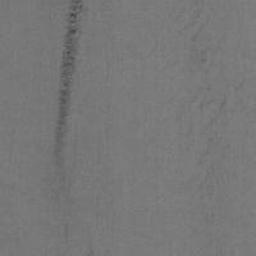Inclusion: (55, 0, 84, 246)
